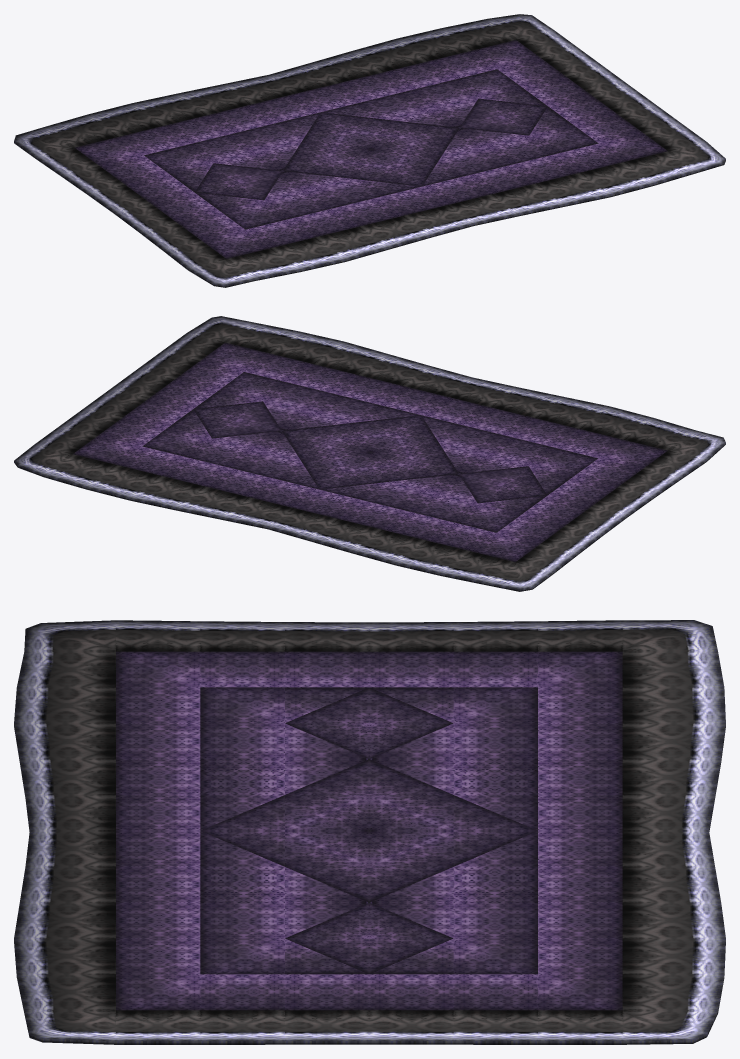
Rendered from BaroqueCarpet_HD.fbx.
The picture shows the model from 3 angles, top to bottom: view 1: azimuth 30°, elevation 25°; view 2: azimuth 150°, elevation 25°; view 3: azimuth 270°, elevation 25°; orthographic projection. The views are drawn at different scales.
Visible parts, largest first — view 1: AntiqueCarpet; view 2: AntiqueCarpet; view 3: AntiqueCarpet.
Part boxes in pixels (x1=…): AntiqueCarpet: x1=14, y1=14, x2=725, y2=287; AntiqueCarpet: x1=14, y1=316, x2=725, y2=591; AntiqueCarpet: x1=14, y1=620, x2=725, y2=1044.
Bounding box in the file's own units: 2.67 × 0.0101 × 1.91.
